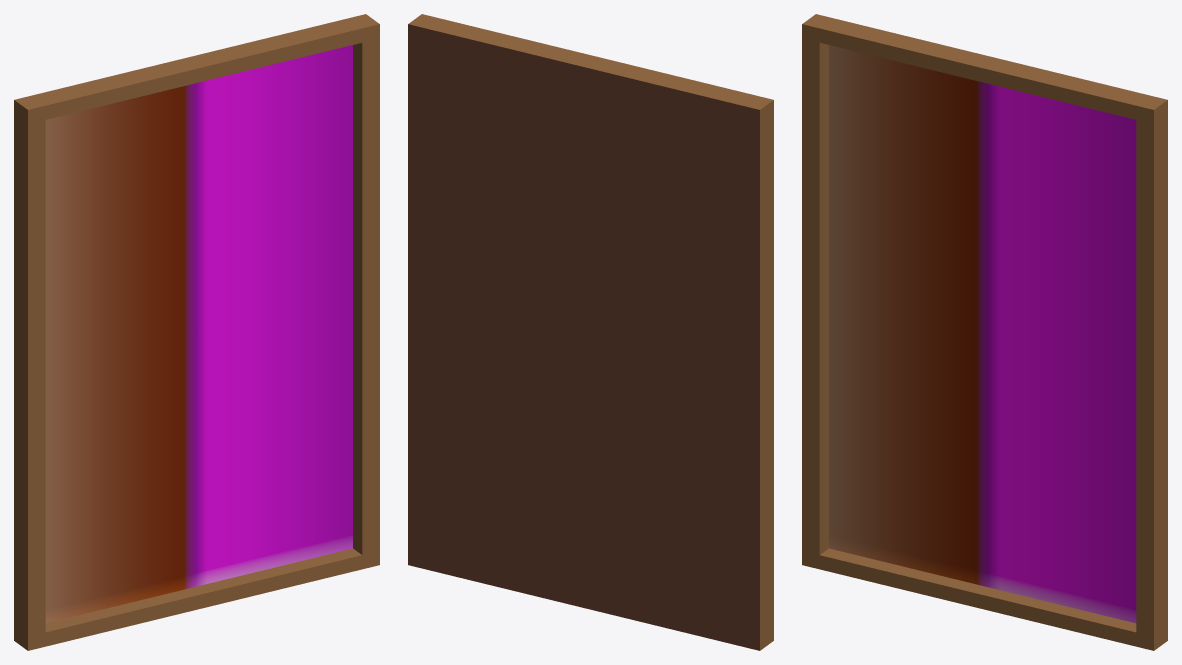
The model's file is FurnAcc_PaintingMedium.fbx.
The picture shows the model from 3 angles, left to right: view 1: azimuth 30°, elevation 25°; view 2: azimuth 150°, elevation 25°; view 3: azimuth 330°, elevation 25°; orthographic projection.
Visible parts, largest first — view 1: FurnAcc_PaintingMedium; view 2: FurnAcc_PaintingMedium; view 3: FurnAcc_PaintingMedium.
Boxes of the visible parts, x1=… form: FurnAcc_PaintingMedium: x1=14, y1=14, x2=379, y2=650; FurnAcc_PaintingMedium: x1=408, y1=14, x2=773, y2=650; FurnAcc_PaintingMedium: x1=802, y1=14, x2=1167, y2=650.
Bounding box in the file's own units: 39.23 × 57.63 × 2.68.
